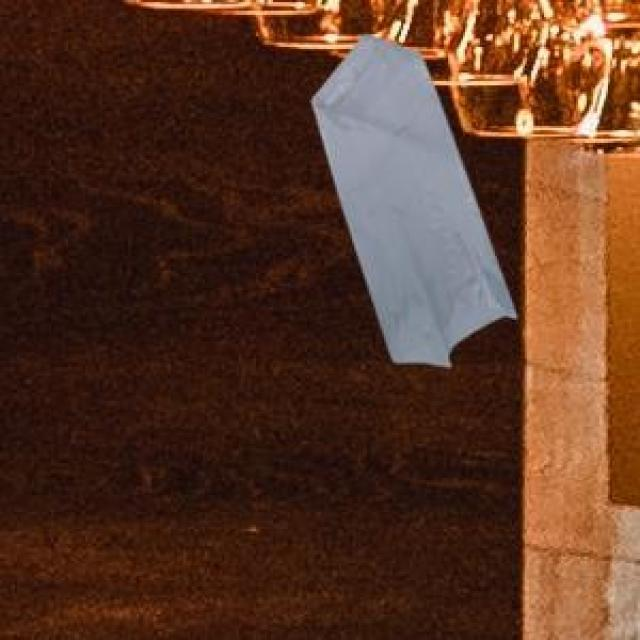waste: (313, 36, 516, 366)
